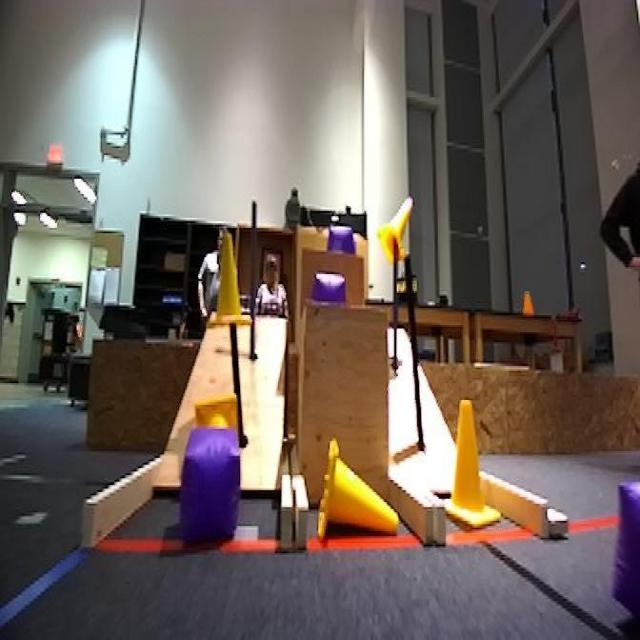frc_cone: (317, 439, 405, 535), (446, 396, 500, 534), (213, 232, 250, 334), (378, 190, 415, 264), (190, 405, 246, 443)
frc_cube: (177, 436, 243, 543), (606, 466, 640, 639), (323, 221, 355, 269), (313, 269, 346, 310)
